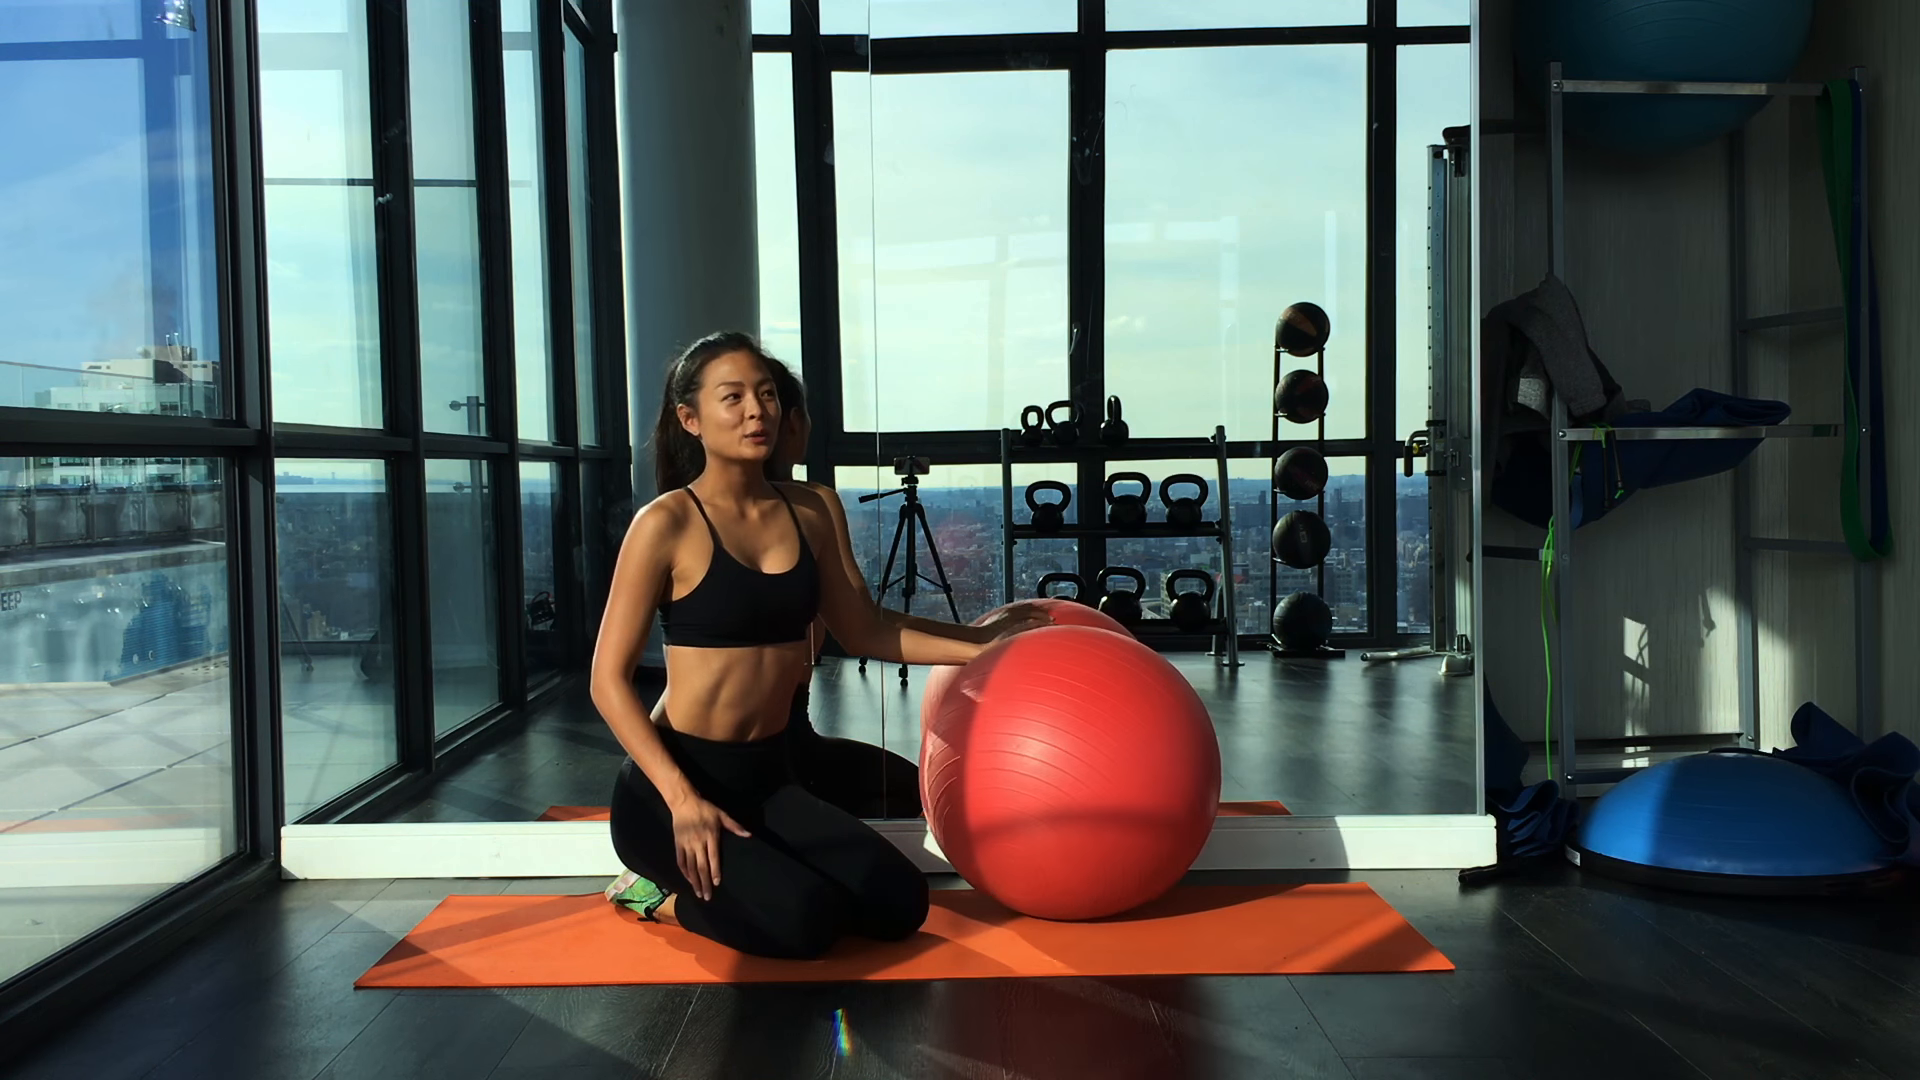yogaball: (909, 622, 1236, 924)
